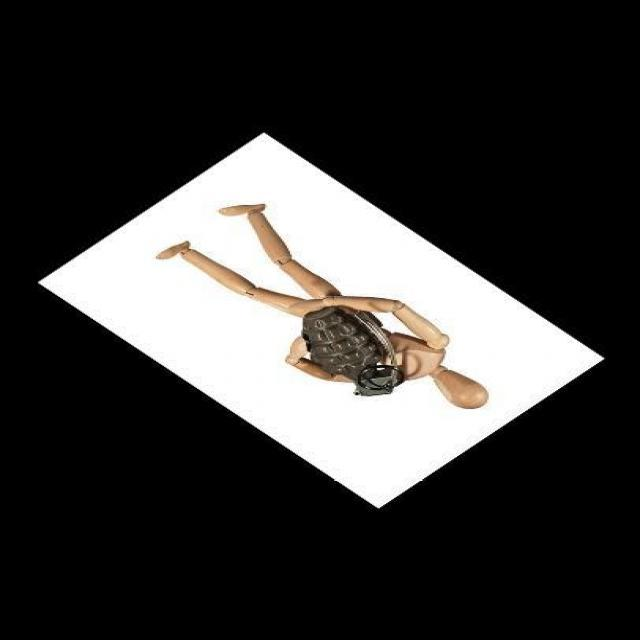Grenade: (300, 304, 406, 396)
